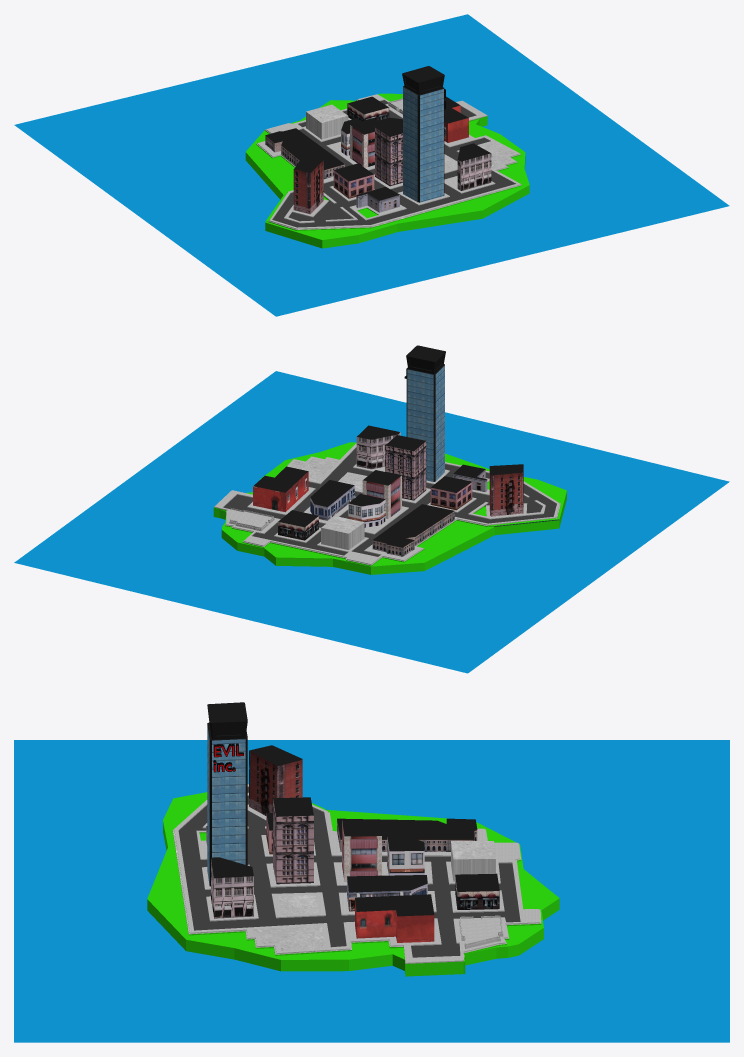
The model's file is world.glb.
3 renders of one model, top to bottom at view 1: azimuth 30°, elevation 25°; view 2: azimuth 150°, elevation 25°; view 3: azimuth 270°, elevation 25°, orthographic. The views are drawn at different scales.
Parts seen in each view (by area): view 1: Plane; view 2: Plane; view 3: Plane.
Part boxes in pixels (x1,y1,x2,y2): Plane: [14, 14, 729, 316]; Plane: [14, 345, 729, 673]; Plane: [14, 702, 729, 1042].
Size of the model in its own units: 38.39 by 10.86 by 38.39.
20 materials, 14 textured.
